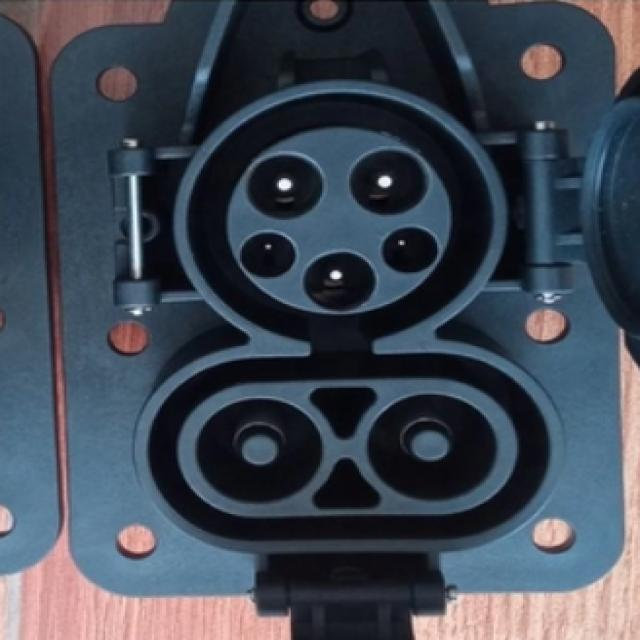CCS1: (125, 78, 540, 612)
